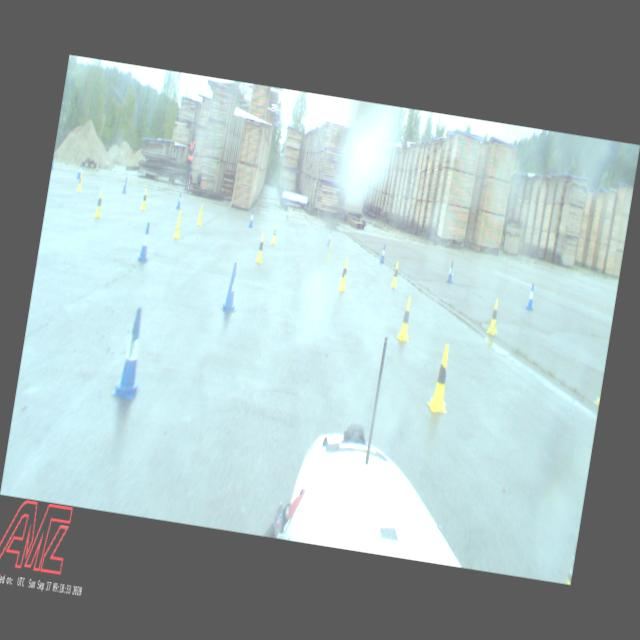blue_cone: (112, 305, 152, 399), (221, 262, 244, 314), (138, 222, 154, 262), (526, 283, 536, 311), (446, 261, 455, 284), (379, 244, 387, 264), (248, 210, 256, 228), (176, 190, 183, 210), (122, 176, 128, 194), (77, 163, 83, 180), (327, 228, 332, 248)
yellow_cone: (427, 344, 458, 414), (396, 294, 416, 342), (486, 298, 502, 335), (338, 258, 352, 292), (254, 232, 266, 264), (172, 211, 184, 239), (94, 190, 105, 218), (390, 261, 400, 289), (270, 222, 279, 246), (325, 240, 334, 264), (140, 188, 149, 210), (196, 204, 205, 226), (76, 170, 84, 192)
